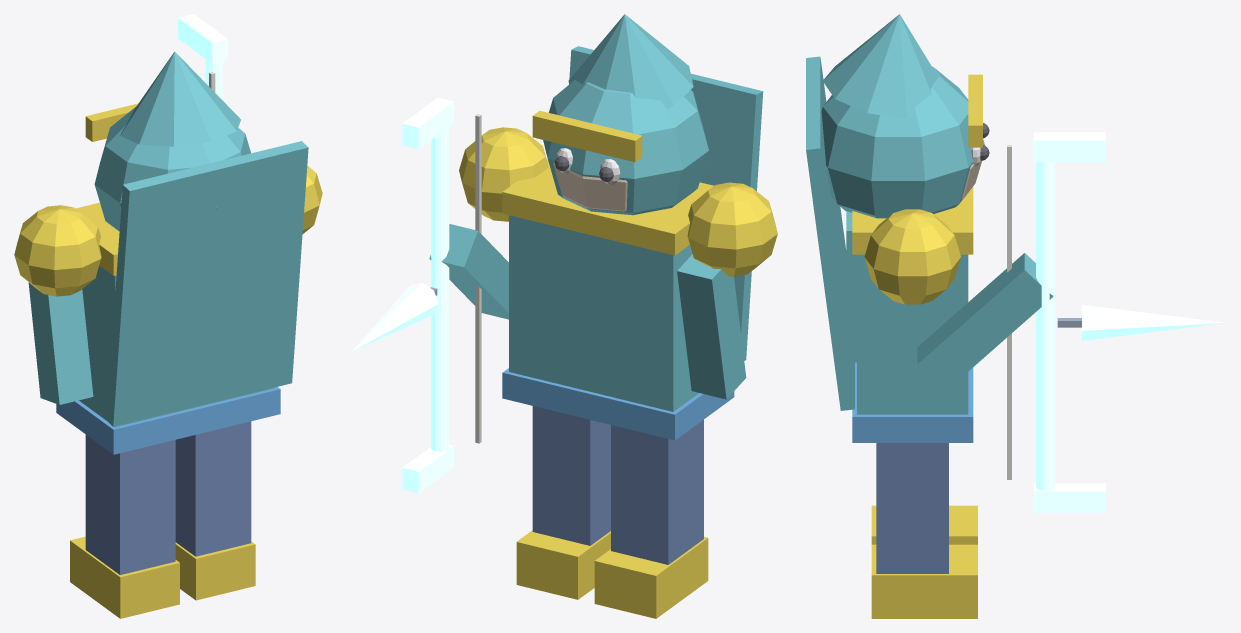
File: hero_magic_archer.glb
3 renders of one model, left to right at view 1: azimuth 30°, elevation 25°; view 2: azimuth 150°, elevation 25°; view 3: azimuth 270°, elevation 25°, orthographic. The views are drawn at different scales.
Parts seen in each view (by area): view 1: hero_magic_archer; view 2: hero_magic_archer; view 3: hero_magic_archer.
Boxes of the visible parts, x1,y1,x2,y2 form: hero_magic_archer: (14,14,322,618); hero_magic_archer: (352,14,777,618); hero_magic_archer: (806,14,1226,618).
Bounding box in the file's own units: 1.48 × 2.6 × 1.74.
